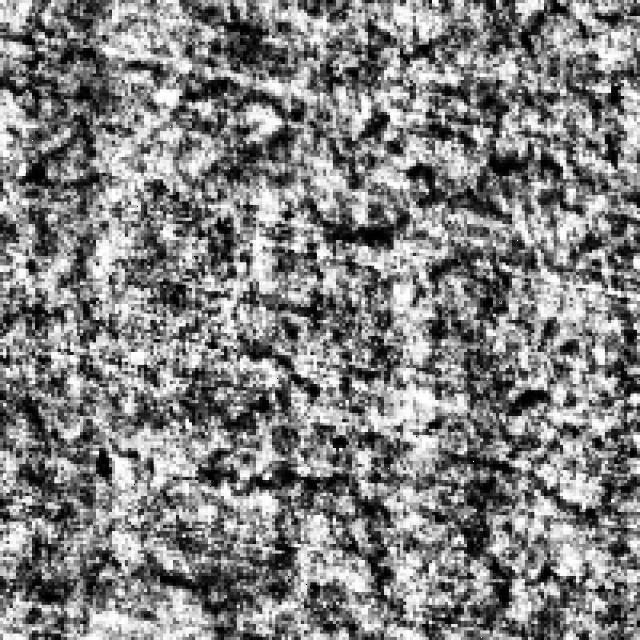Pitted_Surface: (208, 342, 602, 605), (150, 60, 586, 244)
